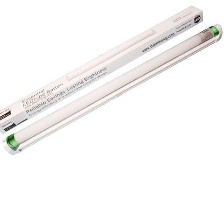book: (0, 3, 208, 136)
light_bulb: (1, 23, 222, 150)
